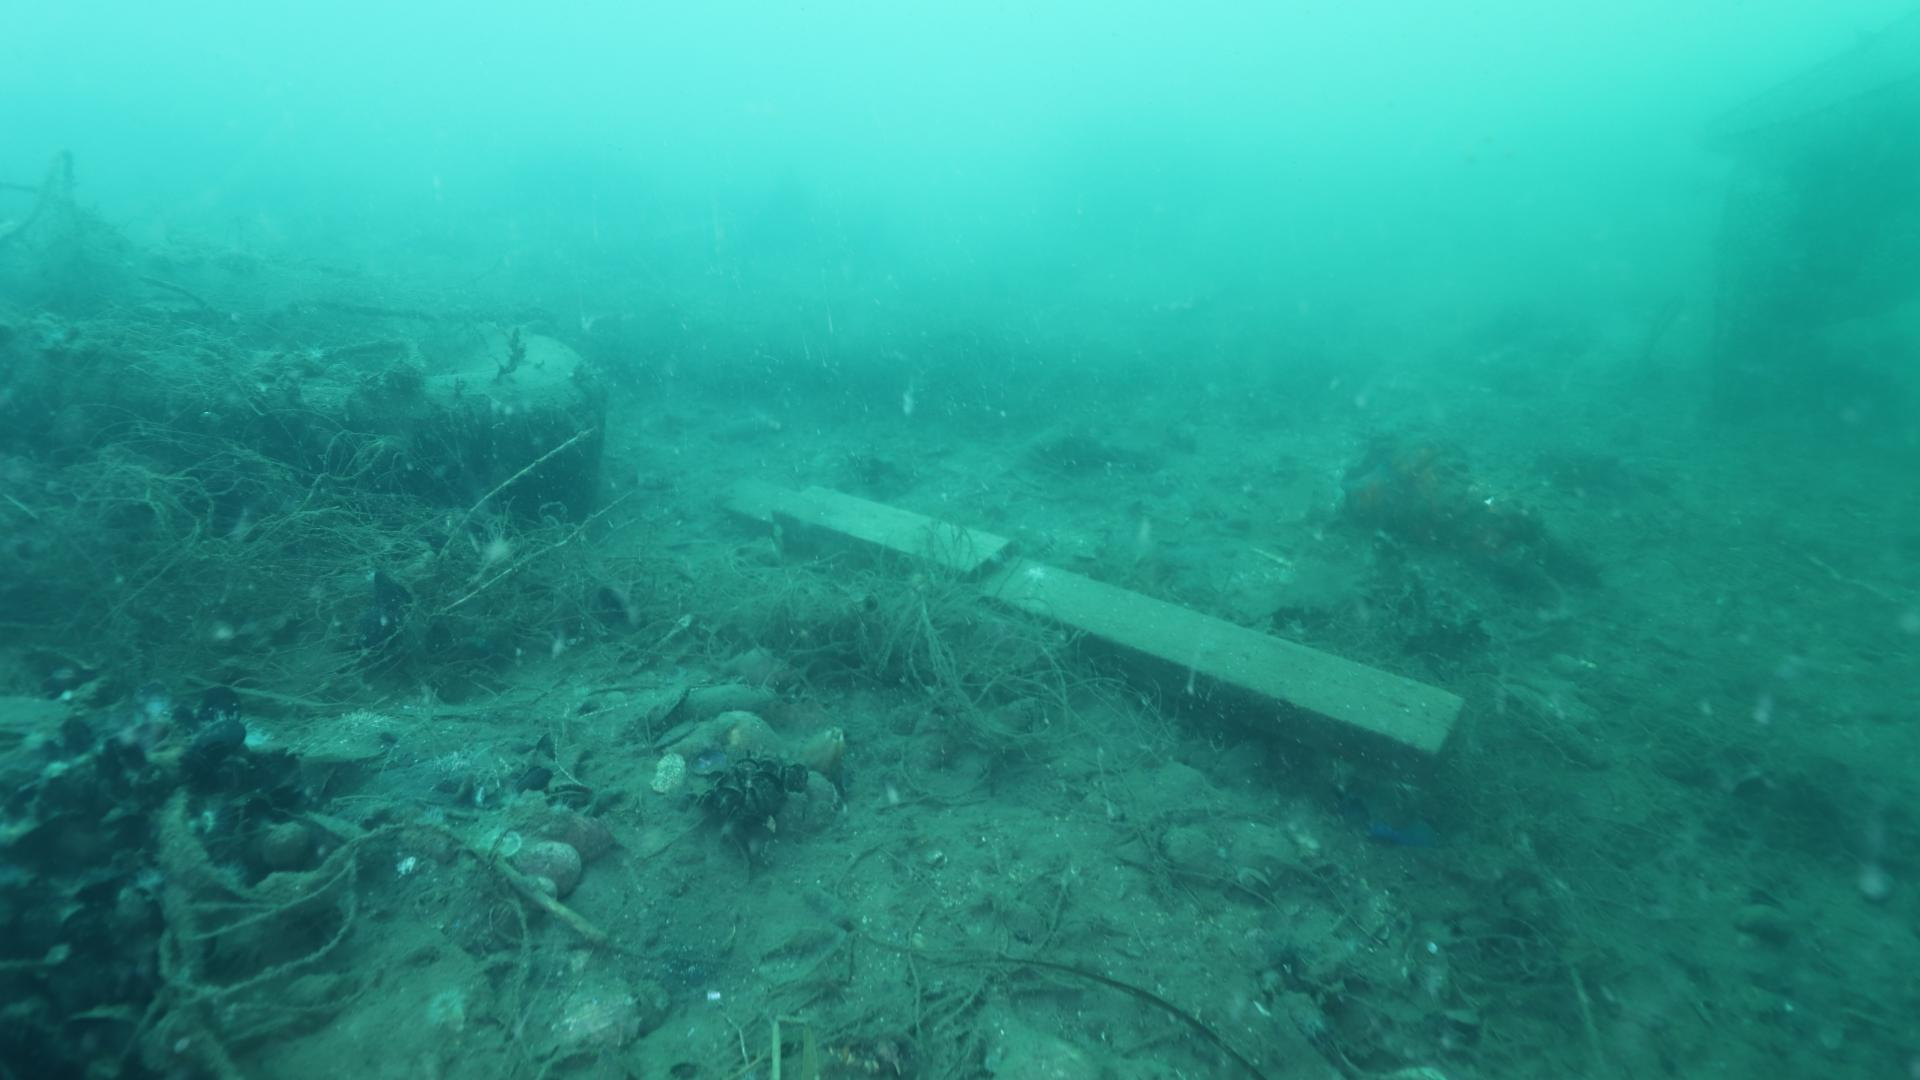tire: (0, 297, 615, 521)
wood: (713, 471, 1472, 786)
